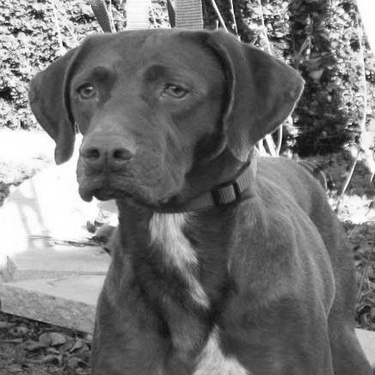dog: (22, 21, 371, 371)
